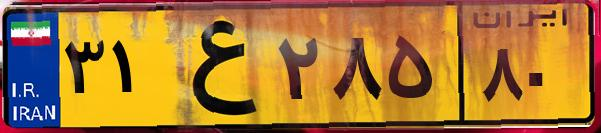0: (525, 38, 570, 115)
1: (110, 28, 158, 98)
2: (270, 28, 330, 110)
3: (57, 26, 110, 100)
5: (385, 28, 445, 110)
8: (330, 28, 385, 110), (475, 38, 525, 113)
ع: (158, 12, 270, 120)
